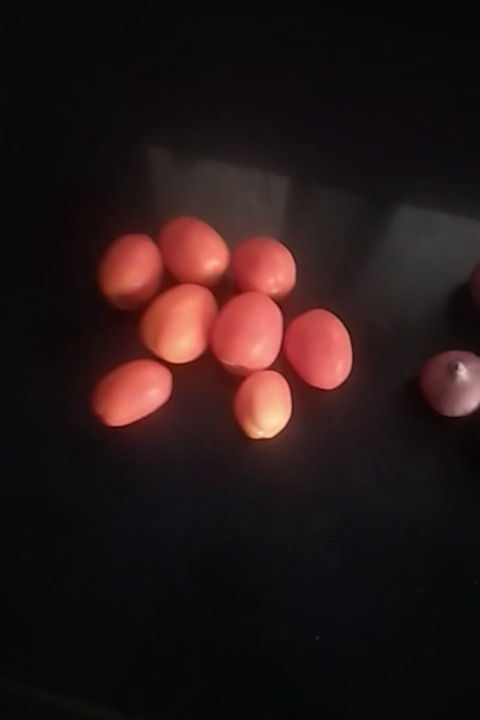onion: (418, 345, 480, 416)
tomato: (282, 300, 353, 400), (153, 204, 230, 288), (143, 283, 217, 369), (89, 355, 175, 423), (214, 291, 281, 376), (225, 234, 301, 306), (233, 367, 301, 446), (95, 231, 163, 307)
